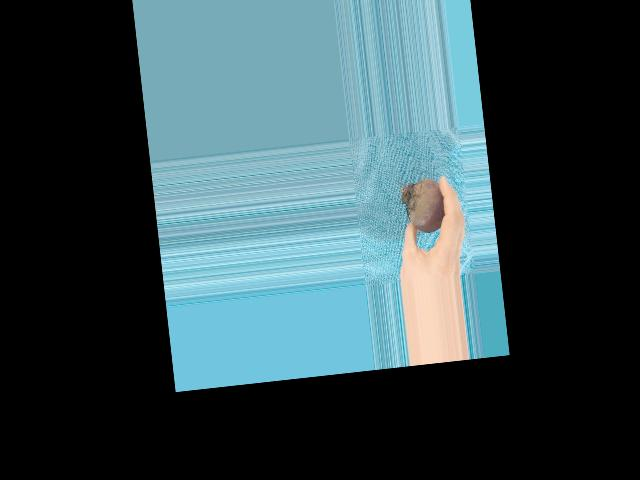beet: (398, 177, 446, 234)
